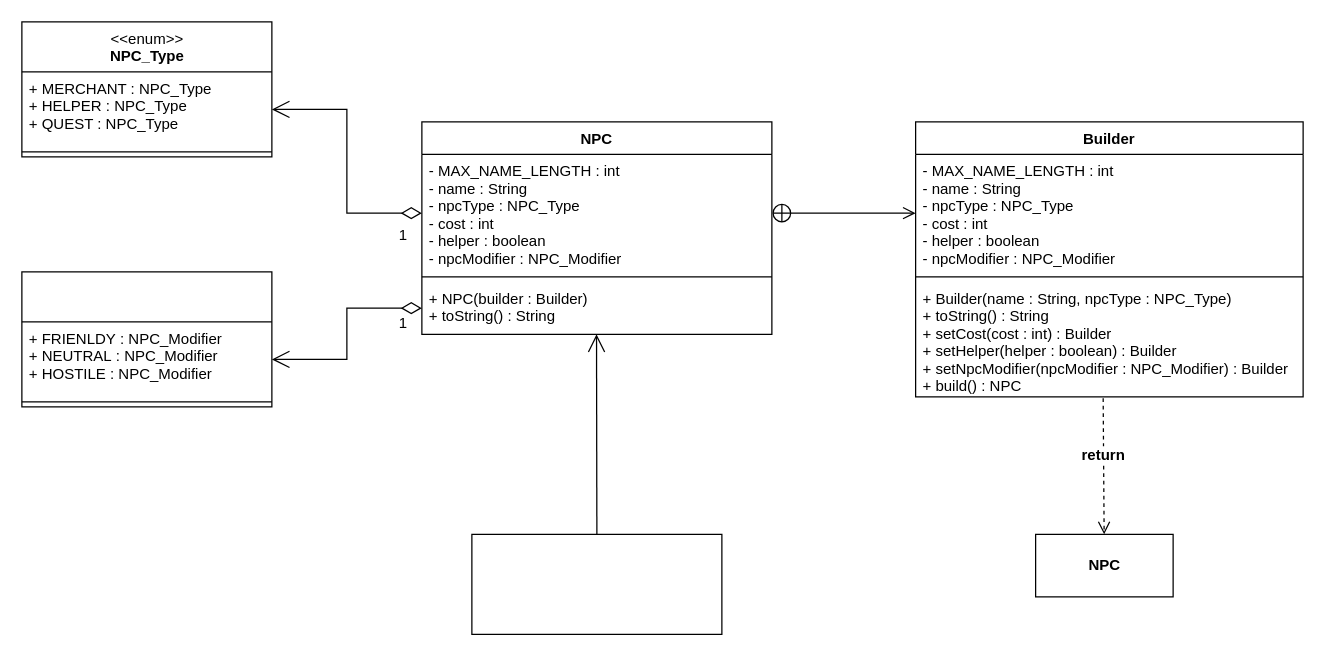
Some shapes in this 1325 by 656 pixel diagram are drawn without their labels. The box of each missing label's shape, as (x1, y1, x2, y2) in pixels:
<<enum>> NPC_Modifier: (21, 271, 272, 407)
Clinet: (471, 533, 722, 634)
